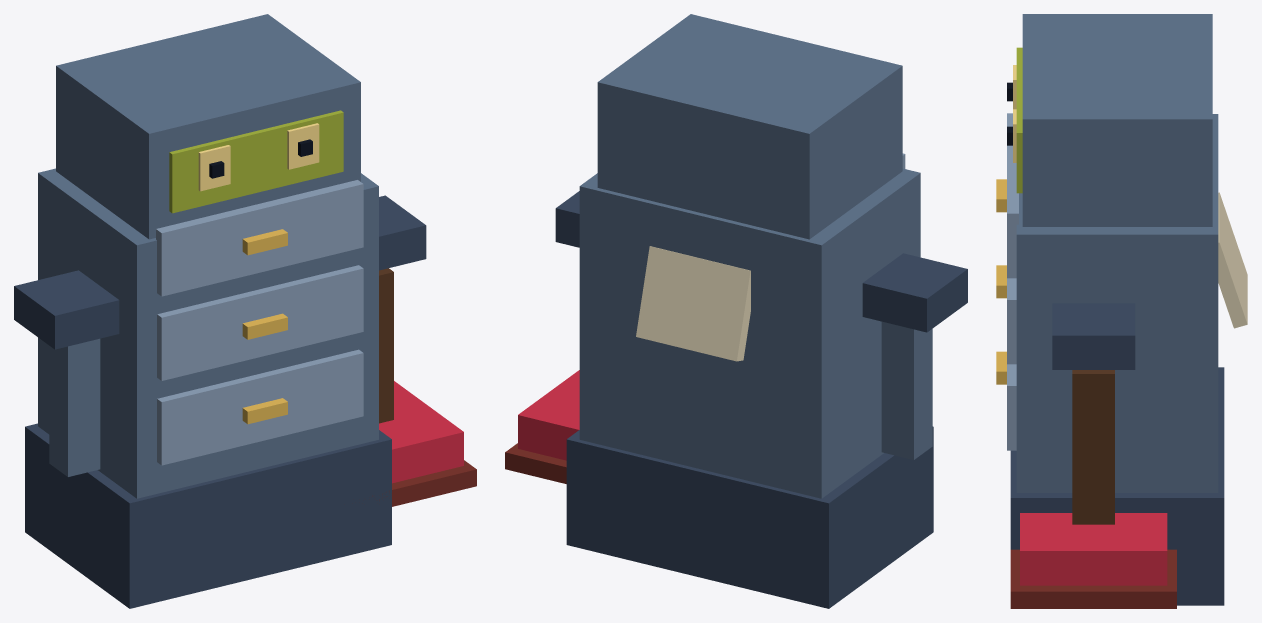
The model's file is enemy_stamper.glb.
The picture shows the model from 3 angles, left to right: view 1: azimuth 30°, elevation 25°; view 2: azimuth 150°, elevation 25°; view 3: azimuth 270°, elevation 25°; orthographic projection.
Parts seen in each view (by area): view 1: enemy_stamper; view 2: enemy_stamper; view 3: enemy_stamper.
Part boxes in pixels (bbox=[...]): enemy_stamper: bbox=[14, 14, 476, 608]; enemy_stamper: bbox=[505, 14, 967, 608]; enemy_stamper: bbox=[996, 14, 1247, 608].
Size of the model in its own units: 1.99 by 2.2 by 1.06.
Materials: 1 (1 with a texture image).
